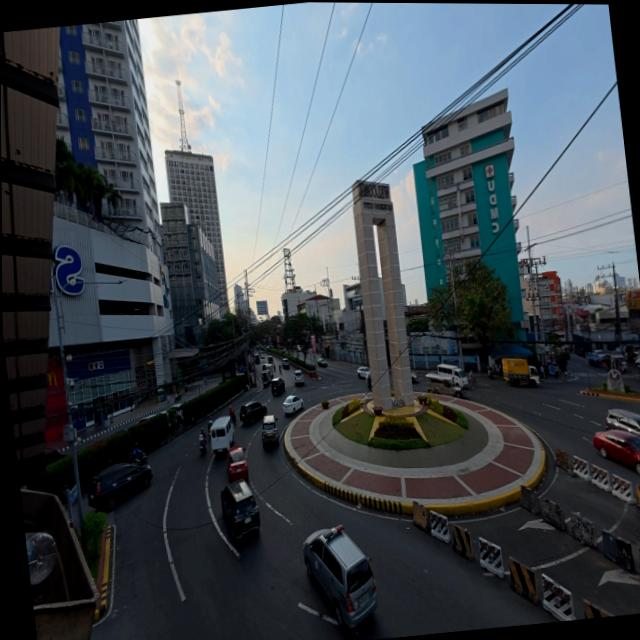Jeepneys: (426, 373, 464, 397), (261, 370, 271, 387)
car: (303, 525, 376, 628), (88, 463, 152, 511), (220, 481, 259, 540), (593, 429, 639, 475), (604, 409, 639, 438), (226, 447, 248, 482), (238, 402, 266, 424), (260, 415, 278, 447), (282, 395, 302, 414), (609, 354, 626, 371), (44, 450, 62, 463), (170, 403, 182, 422), (271, 378, 284, 395), (294, 370, 303, 386), (357, 367, 369, 379), (317, 358, 327, 367), (282, 359, 289, 370), (262, 364, 272, 371), (410, 372, 417, 382), (267, 355, 272, 363), (255, 356, 259, 364), (260, 353, 265, 359), (253, 350, 258, 356)
motorcycle: (128, 452, 146, 464), (487, 365, 502, 379), (198, 433, 205, 454), (487, 367, 494, 379), (366, 375, 371, 391), (230, 413, 236, 425), (174, 391, 181, 401), (638, 367, 640, 382), (278, 367, 281, 374)
trucks: (502, 359, 539, 386)
vans: (210, 417, 233, 453), (437, 364, 467, 386)
